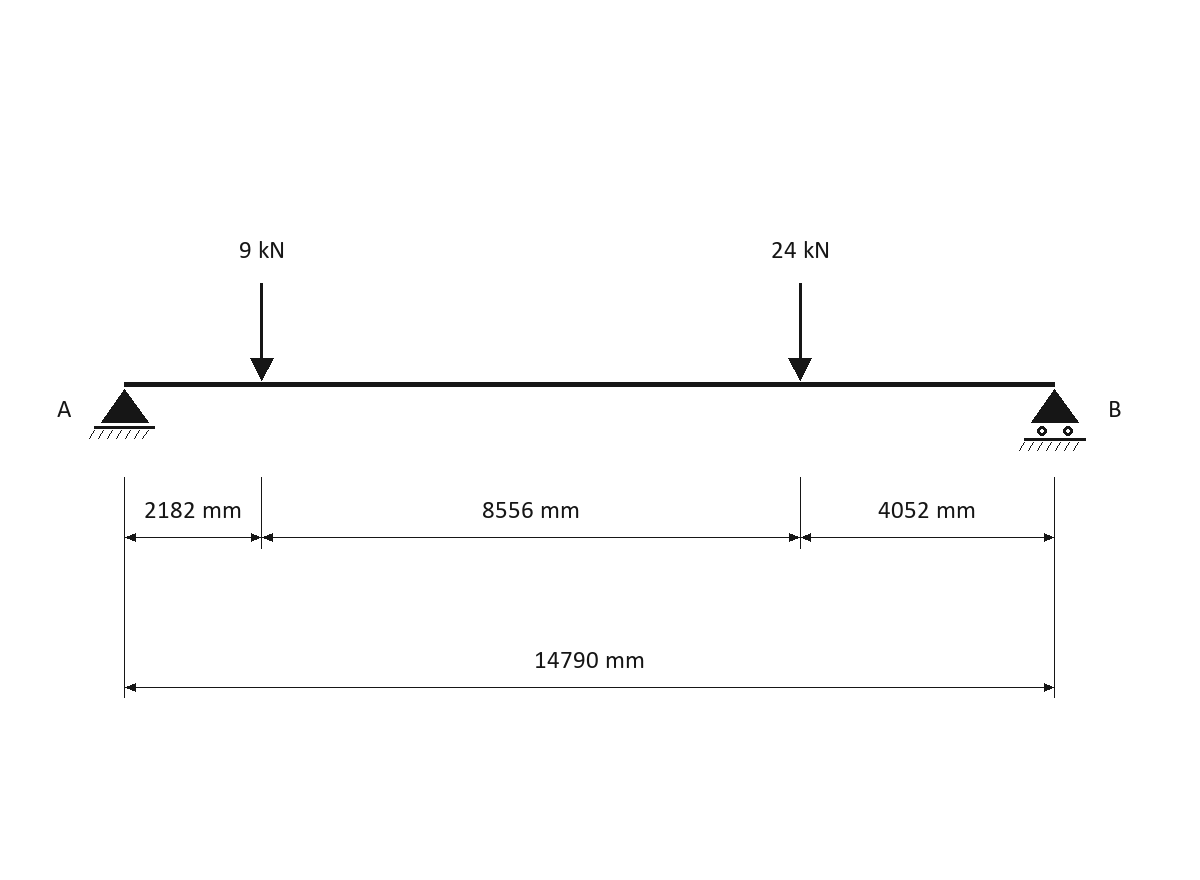pin_support: (89, 389, 155, 439)
point_load: (250, 283, 274, 381), (788, 283, 812, 381)
roller_support: (1019, 389, 1086, 451)
